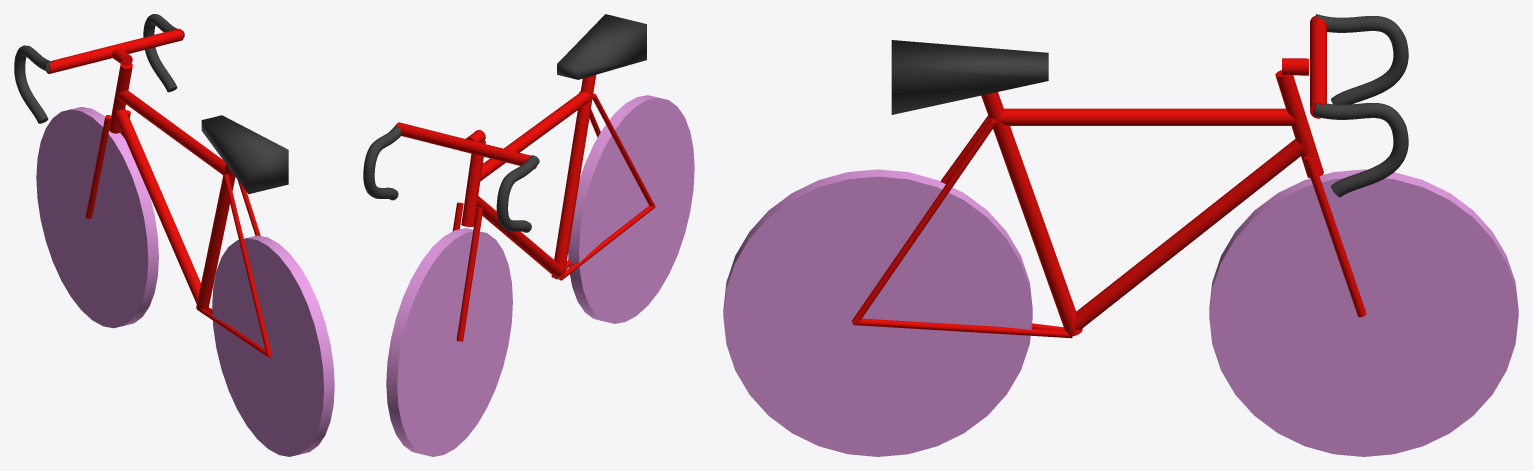
The model's file is bike.glb.
3 views of the same model, side by side, from view 1: azimuth 30°, elevation 25°; view 2: azimuth 150°, elevation 25°; view 3: azimuth 270°, elevation 25° (orthographic). The views are drawn at different scales.
Visible parts, largest first — view 1: Cylinder.004, Cylinder.005, Cylinder.003, Cube, Cylinder.001, Lines, Lines.001; view 2: Cylinder.004, Cylinder.005, Cylinder.003, Cube, Cylinder.001, Lines, Lines.001; view 3: Cylinder.004, Cylinder.005, Cylinder.003, Cube, Lines.001, Lines, Cylinder.001.
Boxes of the visible parts, box(x1,y1,x2,y2) form: Cylinder.004: box(36, 107, 158, 328); Cylinder.005: box(212, 235, 334, 456); Cylinder.003: box(85, 48, 272, 357); Cube: box(201, 115, 288, 194); Cylinder.001: box(46, 28, 183, 73); Lines: box(14, 45, 52, 123); Lines.001: box(143, 14, 184, 92); Cylinder.004: box(386, 228, 512, 456); Cylinder.005: box(568, 95, 694, 323); Cylinder.003: box(452, 75, 655, 341); Cube: box(557, 14, 646, 79); Cylinder.001: box(396, 122, 536, 169); Lines: box(496, 155, 539, 232); Lines.001: box(363, 122, 401, 200); Cylinder.004: box(1209, 169, 1518, 456); Cylinder.005: box(723, 169, 1032, 456); Cylinder.003: box(851, 58, 1366, 338); Cube: box(891, 40, 1048, 114); Lines.001: box(1312, 102, 1408, 197); Lines: box(1316, 14, 1408, 104); Cylinder.001: box(1310, 15, 1326, 118).
Bounding box in the file's own units: 1.04 × 2.08 × 3.75.
